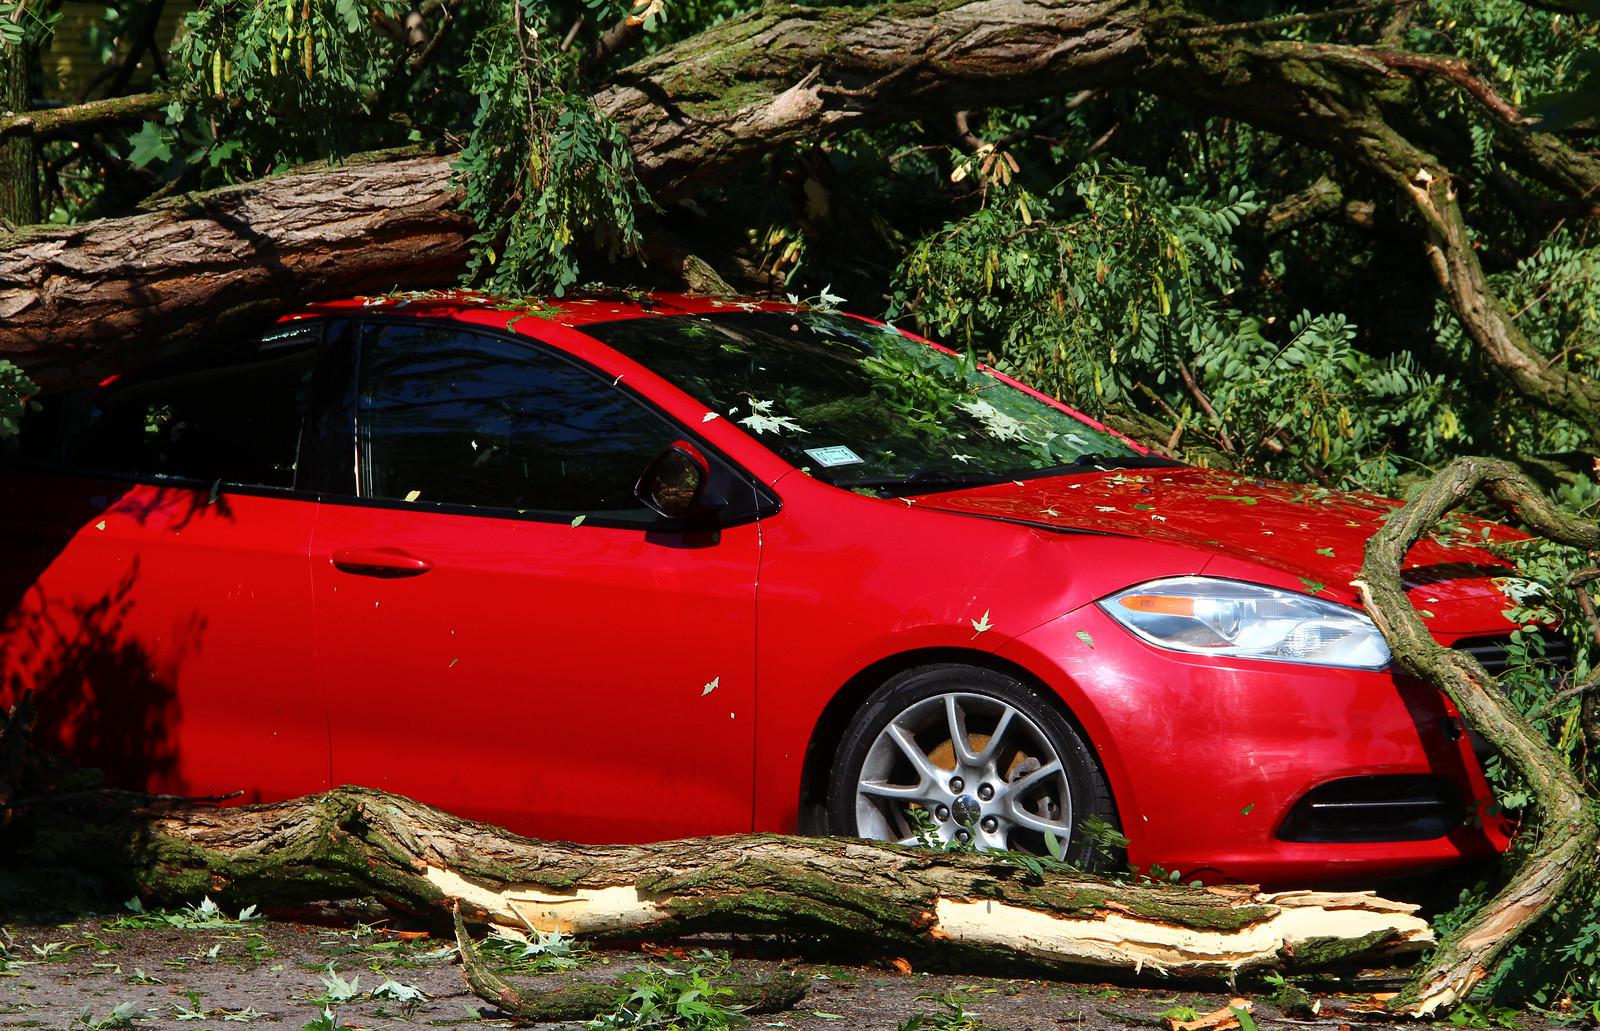bonnet-dent: (935, 477, 1599, 613)
